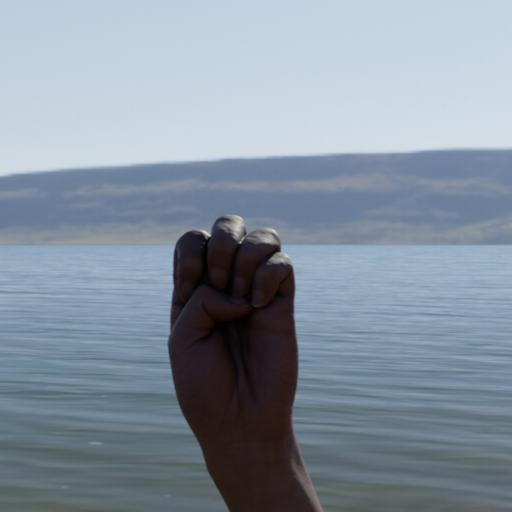E: (162, 210, 305, 437)
